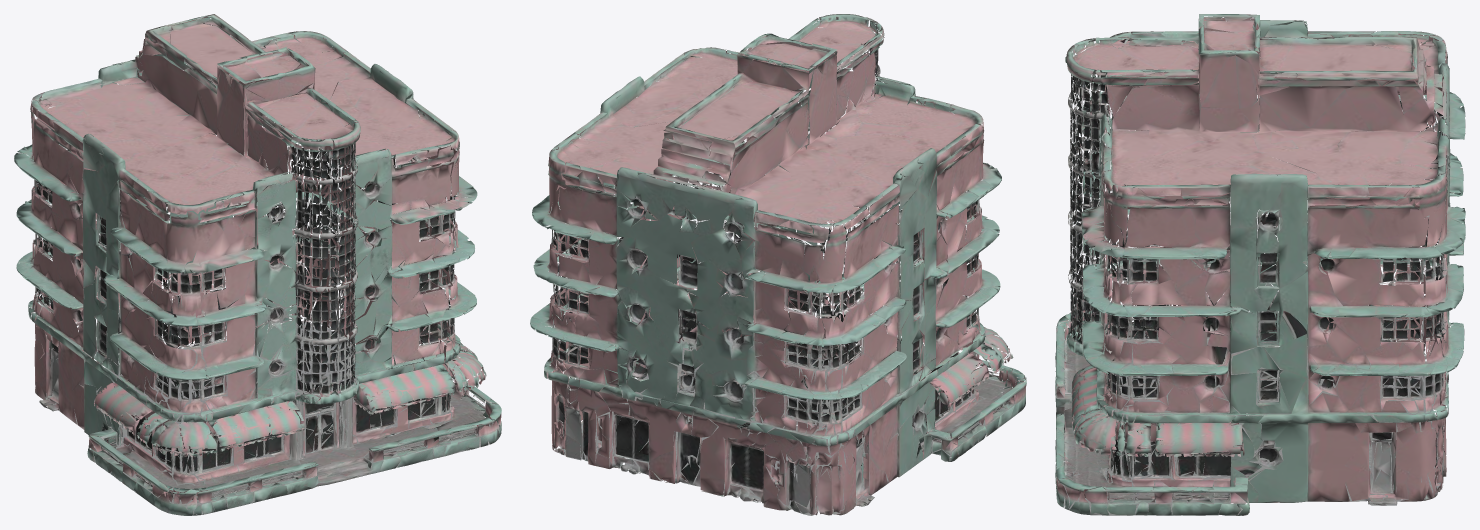
File: deco.glb
The picture shows the model from 3 angles, left to right: view 1: azimuth 30°, elevation 25°; view 2: azimuth 150°, elevation 25°; view 3: azimuth 270°, elevation 25°; orthographic projection. The views are drawn at different scales.
Bounding box in the file's own units: 1.89 × 1.9 × 1.8.
Materials: 1 (1 with a texture image).
